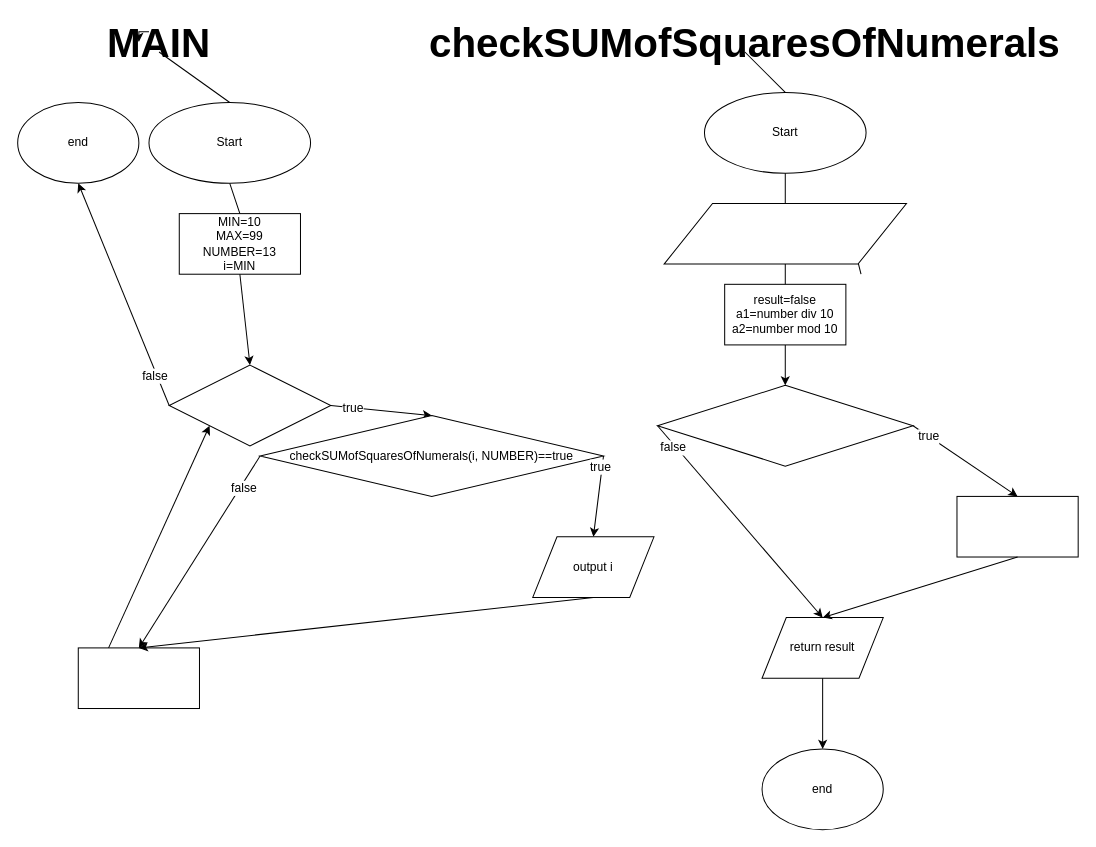
The diagram is 1096 pixels wide and 847 high, and some of its shapes have lost their labels. Here are the shapes that lost their labels. From the top down, the box of each, then its label:
(663, 203, 906, 264): arguments: number, byNumber
(168, 364, 331, 446): i<=MAX
(656, 384, 913, 466): (a1^2+a2^2) mod byNumber == 0
(956, 495, 1078, 557): result=true
(77, 647, 199, 709): i=i+1
